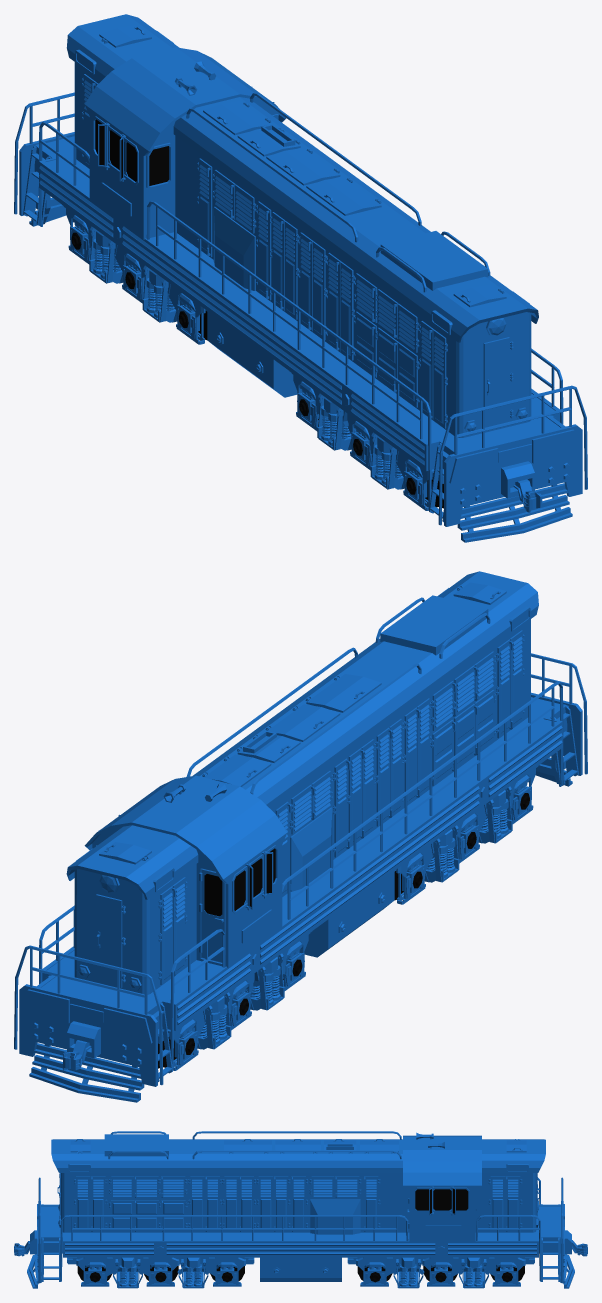
File: SM_diesel_locomotive.fbx
The picture shows the model from 3 angles, top to bottom: view 1: azimuth 30°, elevation 25°; view 2: azimuth 150°, elevation 25°; view 3: azimuth 270°, elevation 25°; orthographic projection. The views are drawn at different scales.
Visible parts, largest first — view 1: Symmetry_1; view 2: Symmetry_1, Cube_3; view 3: Symmetry_1, Symmetry_4, Symmetry_3, Symmetry_6.
Part boxes in pixels (x1,y1,x2,y2): Symmetry_1: (14, 14, 587, 542); Symmetry_1: (14, 571, 587, 1102); Cube_3: (199, 868, 225, 962); Symmetry_1: (14, 1131, 587, 1288); Symmetry_4: (357, 1266, 392, 1282); Symmetry_3: (210, 1266, 244, 1282); Symmetry_6: (490, 1266, 524, 1282).
Bounding box in the file's own units: 330 × 457 × 1714.
